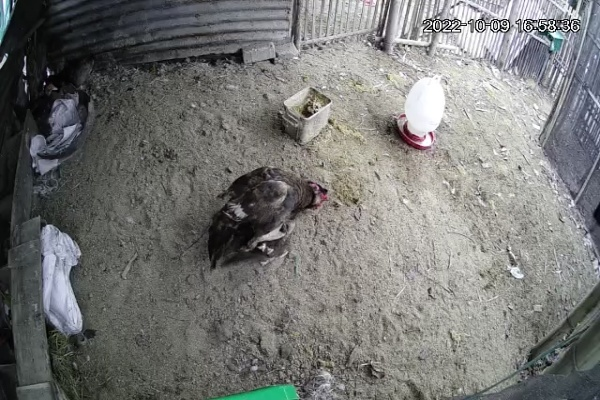Kawin: (197, 166, 336, 272)
